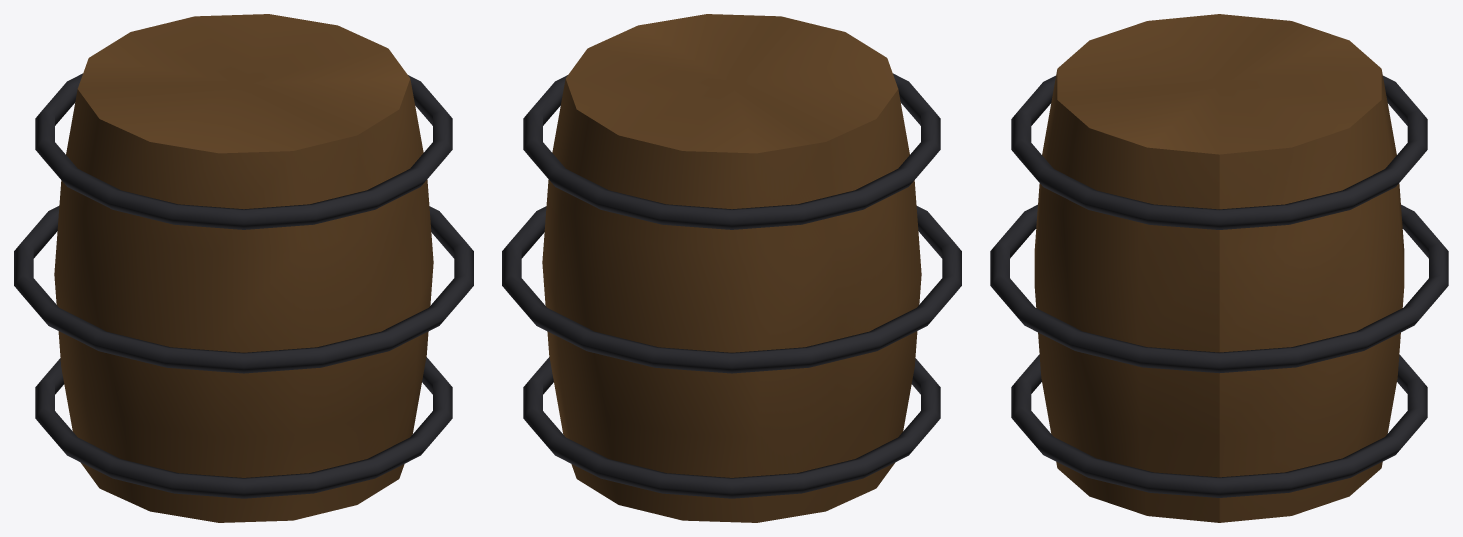
File: barril.glb
3 renders of one model, left to right at view 1: azimuth 30°, elevation 25°; view 2: azimuth 150°, elevation 25°; view 3: azimuth 270°, elevation 25°, orthographic.
Visible parts, largest first — view 1: Prop; view 2: Prop; view 3: Prop.
Boxes of the visible parts, bbox=[...] form: Prop: bbox=[14, 14, 473, 522]; Prop: bbox=[502, 14, 961, 522]; Prop: bbox=[990, 14, 1448, 522].
Bounding box in the file's own units: 1.26 × 1.1 × 1.24.
